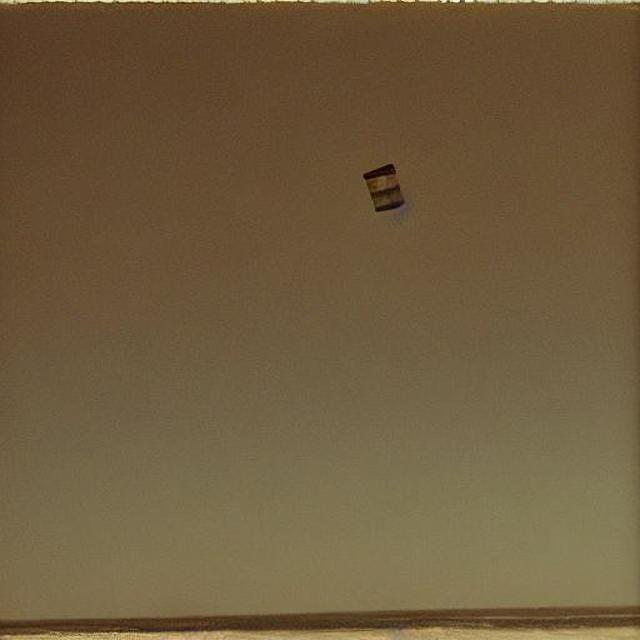floating object: (362, 159, 412, 218)
